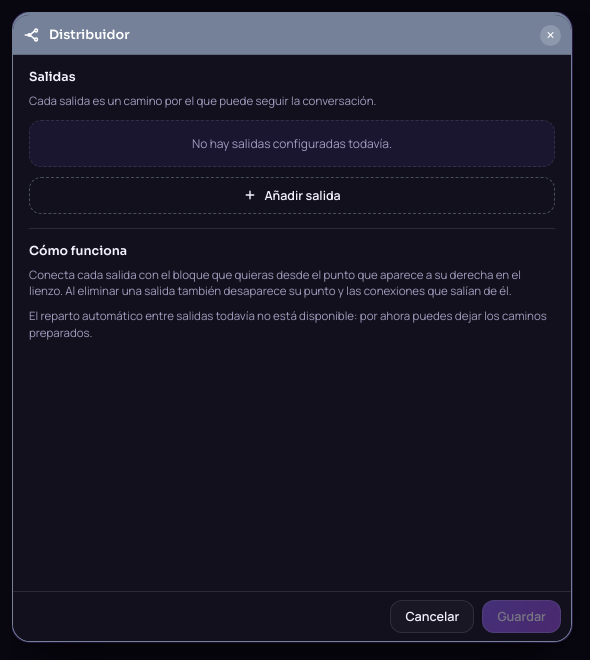
guardar y descartar, por el camino del marco compartido › Guardar conserva las salidas en el nodo
Click the button "Añadir salida": [292, 195] box [29,177,555,214]
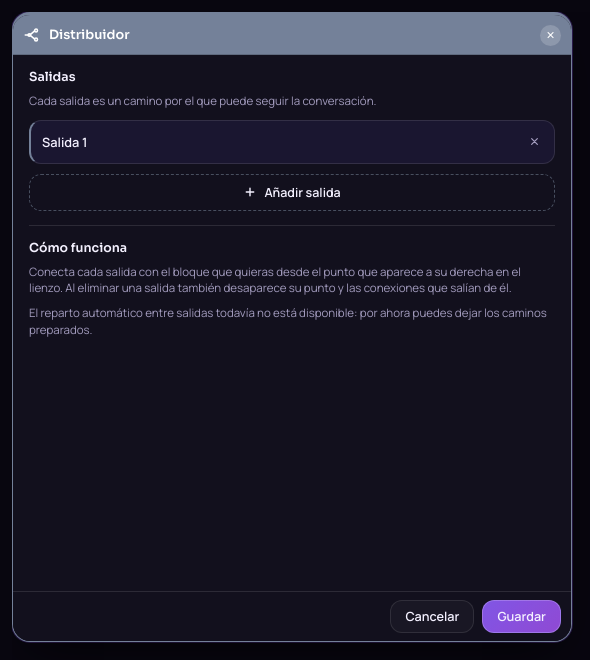
Click the button "Añadir salida": [292, 192] box [29,174,555,211]
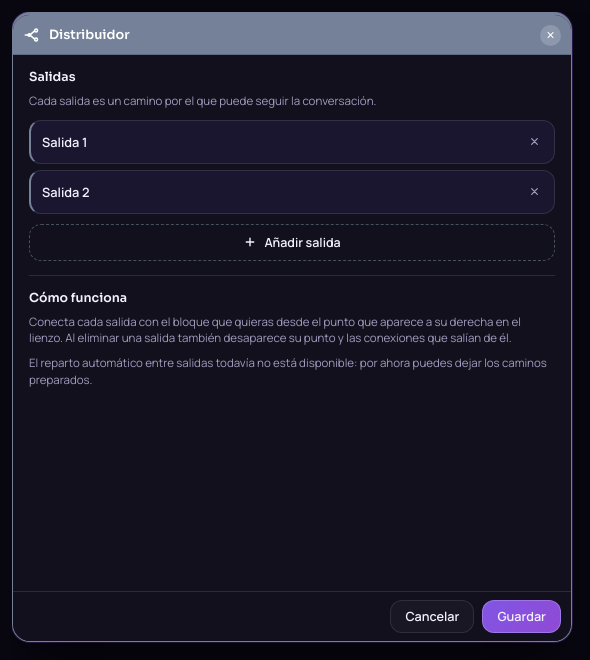
Click the button "Guardar": [522, 616] box [482,600,561,633]
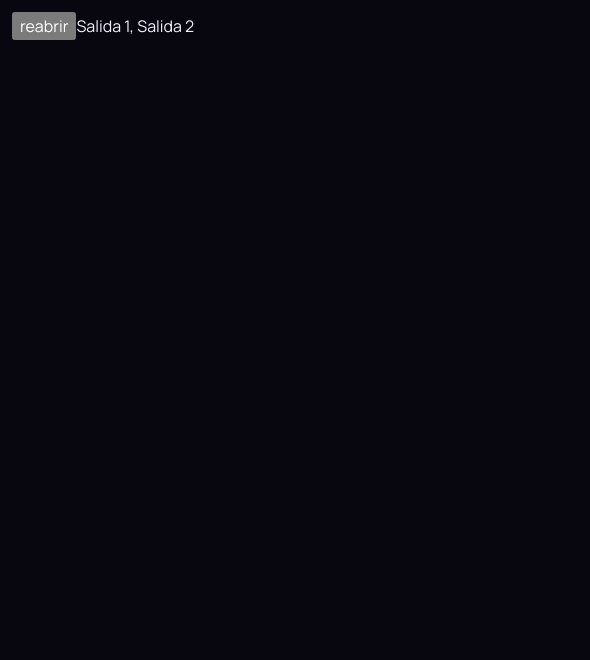
Expected: the text with test id "guardado" reads "Salida 1, Salida 2", [76,15,194,37]
